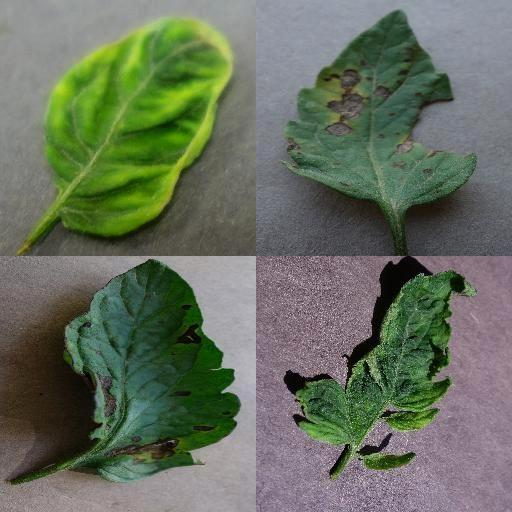Early Blight: (61, 258, 242, 484), (285, 9, 477, 213)
Mosaic Virus: (294, 269, 480, 471)
Yellow Leaf Curl Virus: (45, 15, 235, 239)
